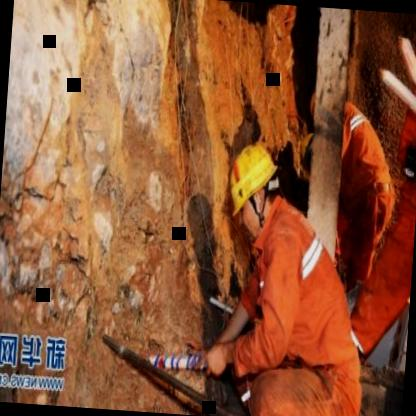helmet: (224, 138, 286, 235)
